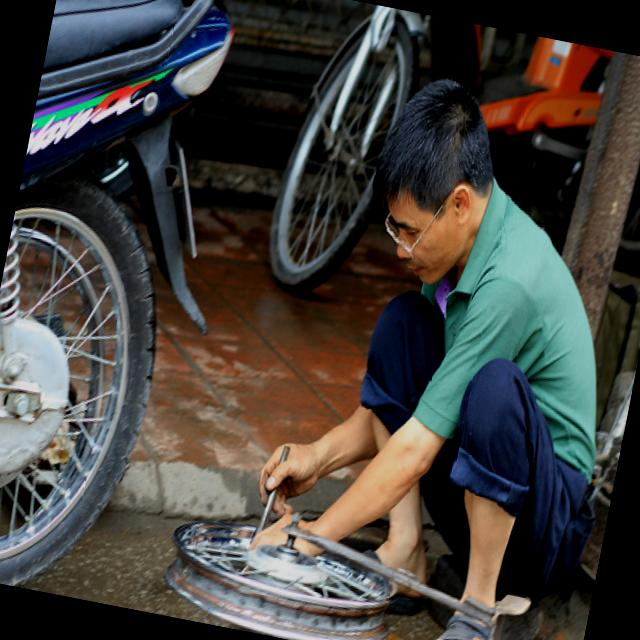Vehicle: (0, 0, 285, 615)
